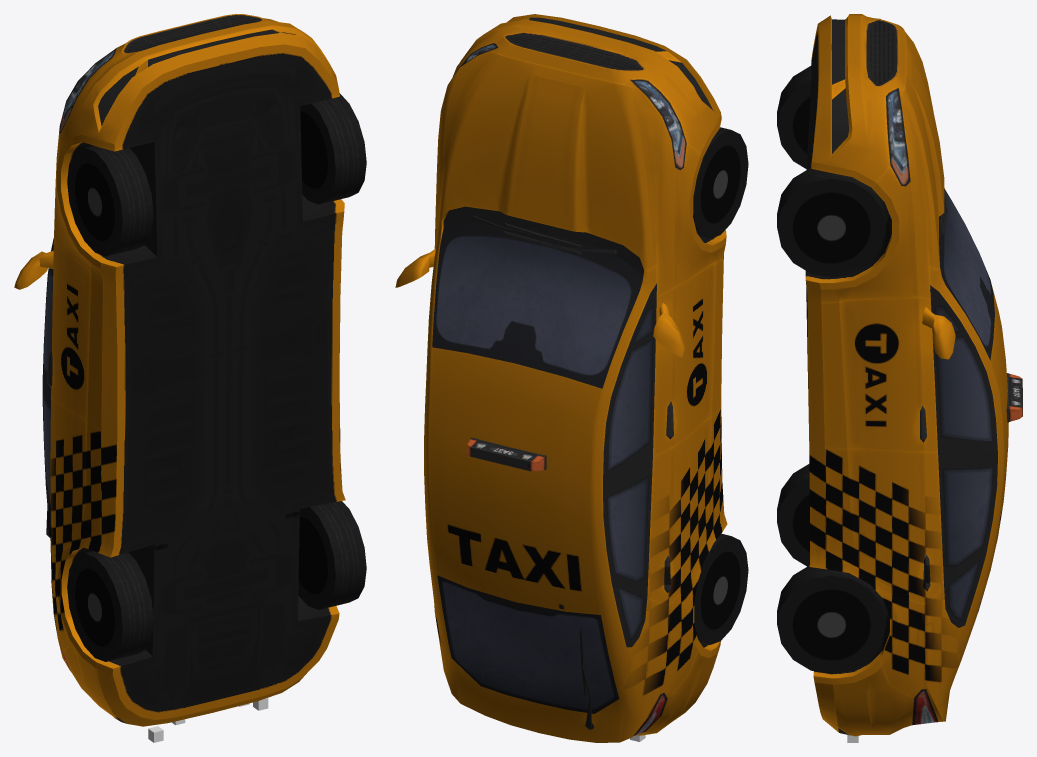
The model's file is taxipreview2.gltf.
3 views of the same model, side by side, from view 1: azimuth 30°, elevation 25°; view 2: azimuth 150°, elevation 25°; view 3: azimuth 270°, elevation 25° (orthographic). The views are drawn at different scales.
Parts seen in each view (by area): view 1: taxiob1; view 2: taxiob1; view 3: taxiob1.
Boxes of the visible parts, <box> form: taxiob1: <box>14,14,366,742</box>; taxiob1: <box>395,14,748,742</box>; taxiob1: <box>777,14,1022,742</box>.
Size of the model in its own units: 10.85 by 25.08 by 8.25.
3 materials, 1 textured.
